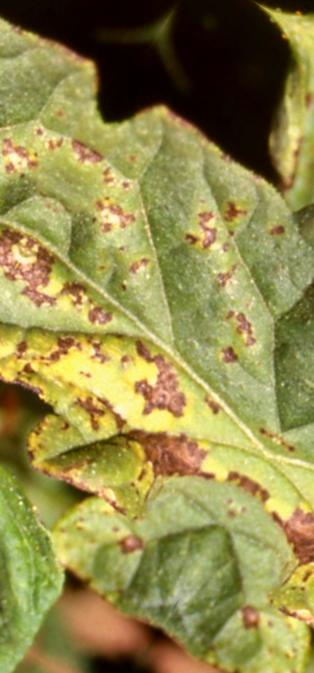Tomato leaf bacterial spot: (0, 75, 314, 631), (0, 369, 163, 670)
